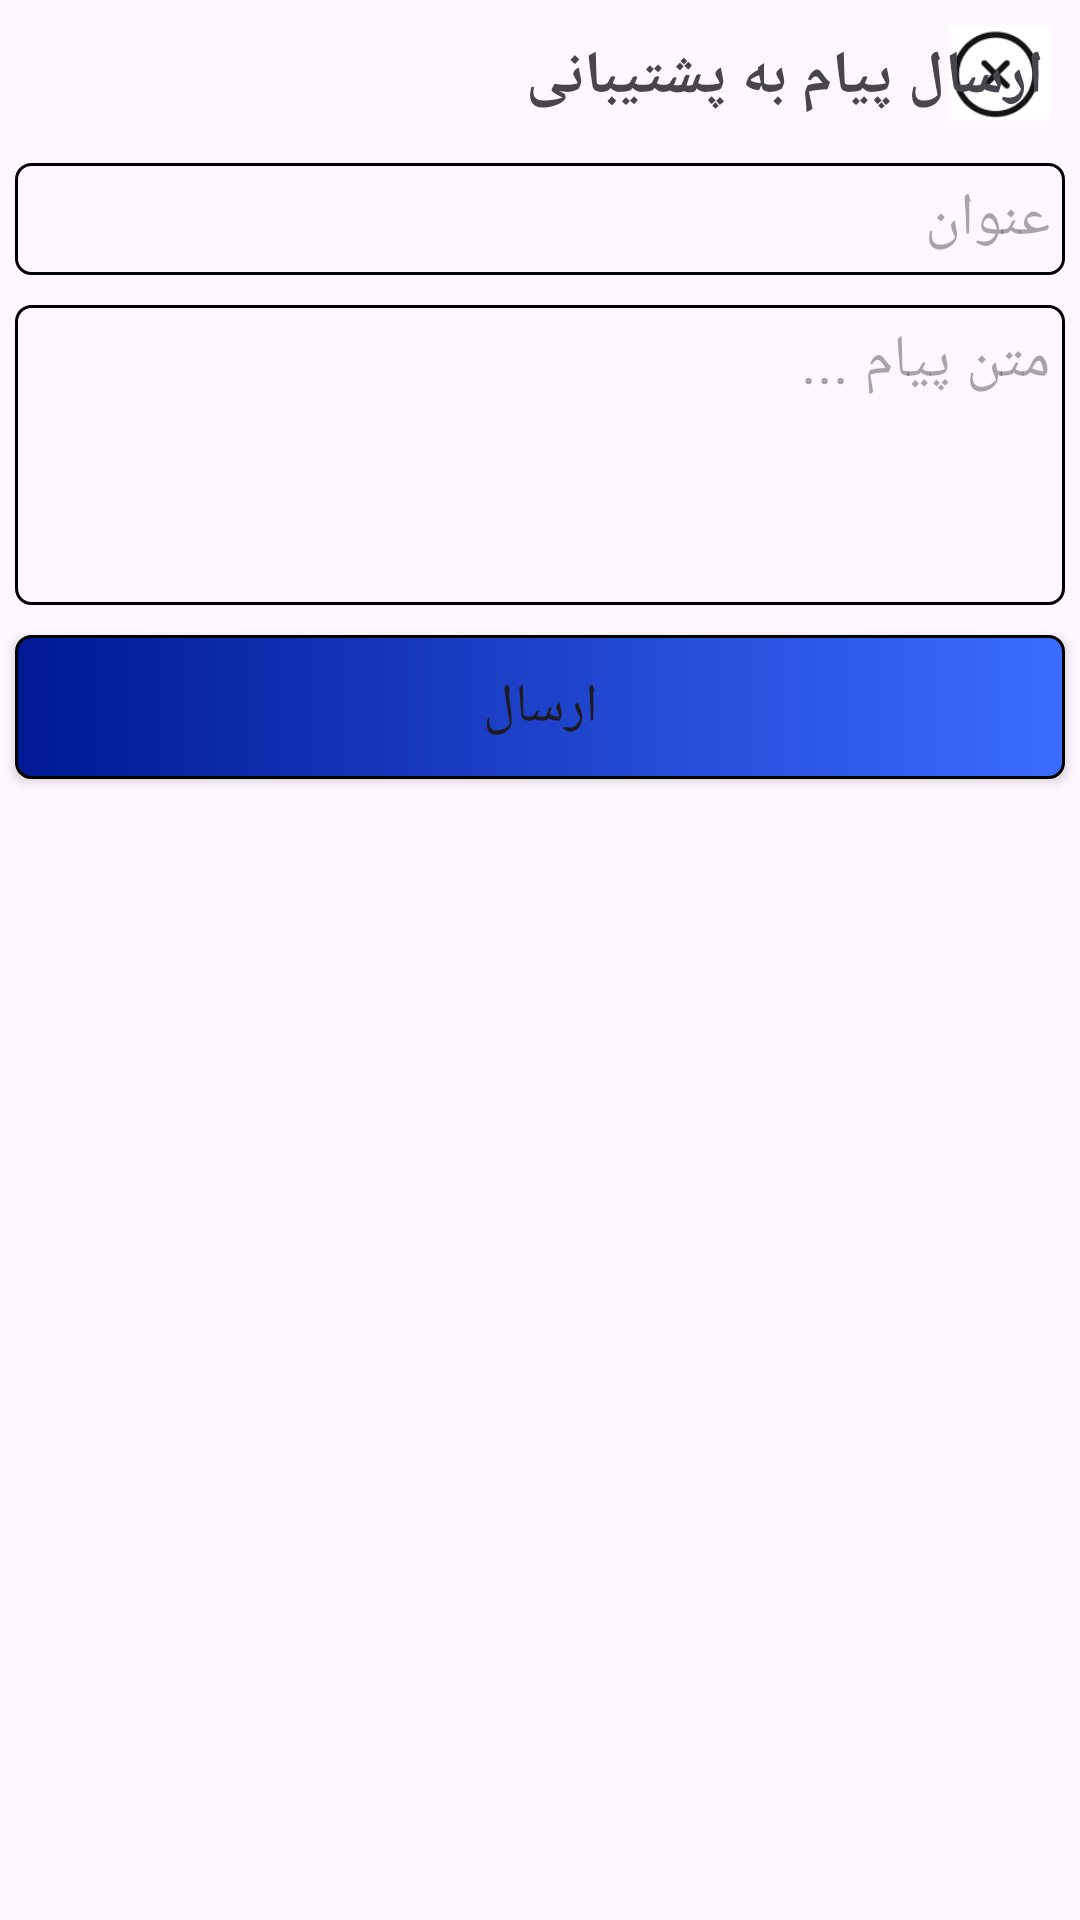

Where to tap for icons on this 1080x1920 app screen, as [x,y]:
cancel: [995,74]
